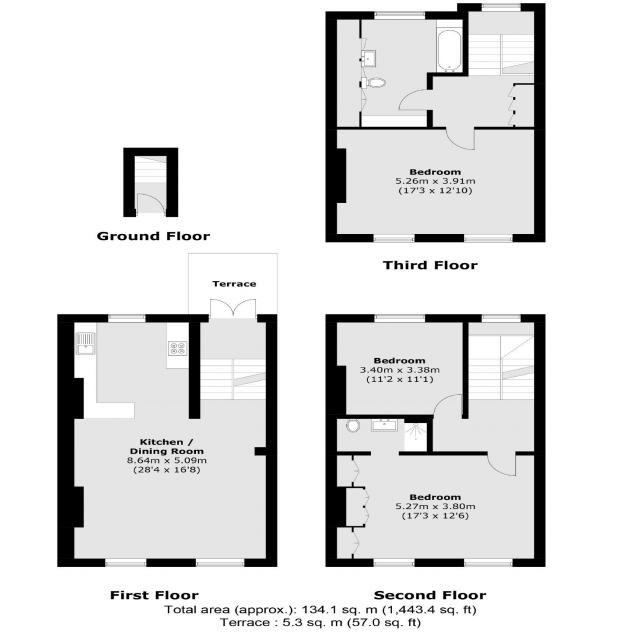DOOR: (396, 87, 434, 113), (432, 391, 464, 419), (442, 127, 477, 152), (485, 451, 518, 477)
ROOM: (56, 295, 278, 567), (325, 413, 546, 567), (325, 3, 546, 153), (325, 314, 546, 455), (325, 127, 546, 242)
WINDOW: (372, 312, 427, 325), (461, 556, 514, 569), (461, 232, 515, 244), (100, 556, 149, 569), (193, 557, 246, 569), (371, 232, 418, 245), (372, 10, 427, 21), (370, 557, 417, 569), (479, 313, 523, 324), (104, 313, 147, 324), (480, 2, 523, 13)
